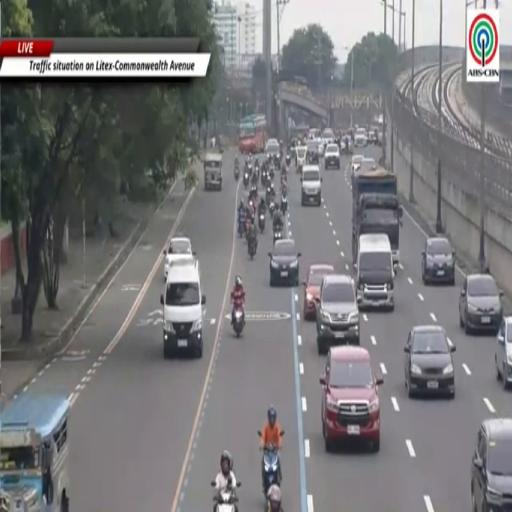car: (320, 346, 383, 452), (471, 419, 511, 511), (316, 274, 360, 355), (405, 326, 455, 397), (459, 274, 503, 334), (303, 264, 334, 319), (268, 239, 301, 286), (422, 237, 455, 284), (164, 236, 194, 279), (495, 316, 512, 389), (301, 165, 322, 206), (324, 143, 340, 169), (306, 139, 320, 164), (358, 157, 378, 173), (265, 139, 280, 158), (354, 128, 368, 147), (351, 155, 363, 176), (340, 135, 353, 154), (296, 146, 306, 169), (369, 126, 378, 145)
jeepney: (0, 393, 69, 511), (204, 153, 222, 189)
motorcycle: (263, 444, 281, 495), (216, 488, 237, 511), (233, 308, 244, 337), (248, 184, 258, 204), (248, 238, 257, 260), (266, 186, 275, 205), (238, 216, 245, 237), (266, 496, 275, 511), (245, 218, 251, 238), (259, 212, 265, 232), (274, 229, 282, 244), (268, 201, 275, 218), (243, 170, 249, 188), (281, 196, 287, 214), (261, 169, 267, 186), (248, 194, 254, 209), (269, 166, 275, 180), (252, 172, 258, 185), (234, 167, 239, 181), (248, 163, 253, 174), (286, 153, 290, 166), (255, 160, 259, 171), (297, 165, 302, 173)
truck: (352, 167, 402, 267), (239, 115, 266, 154)
